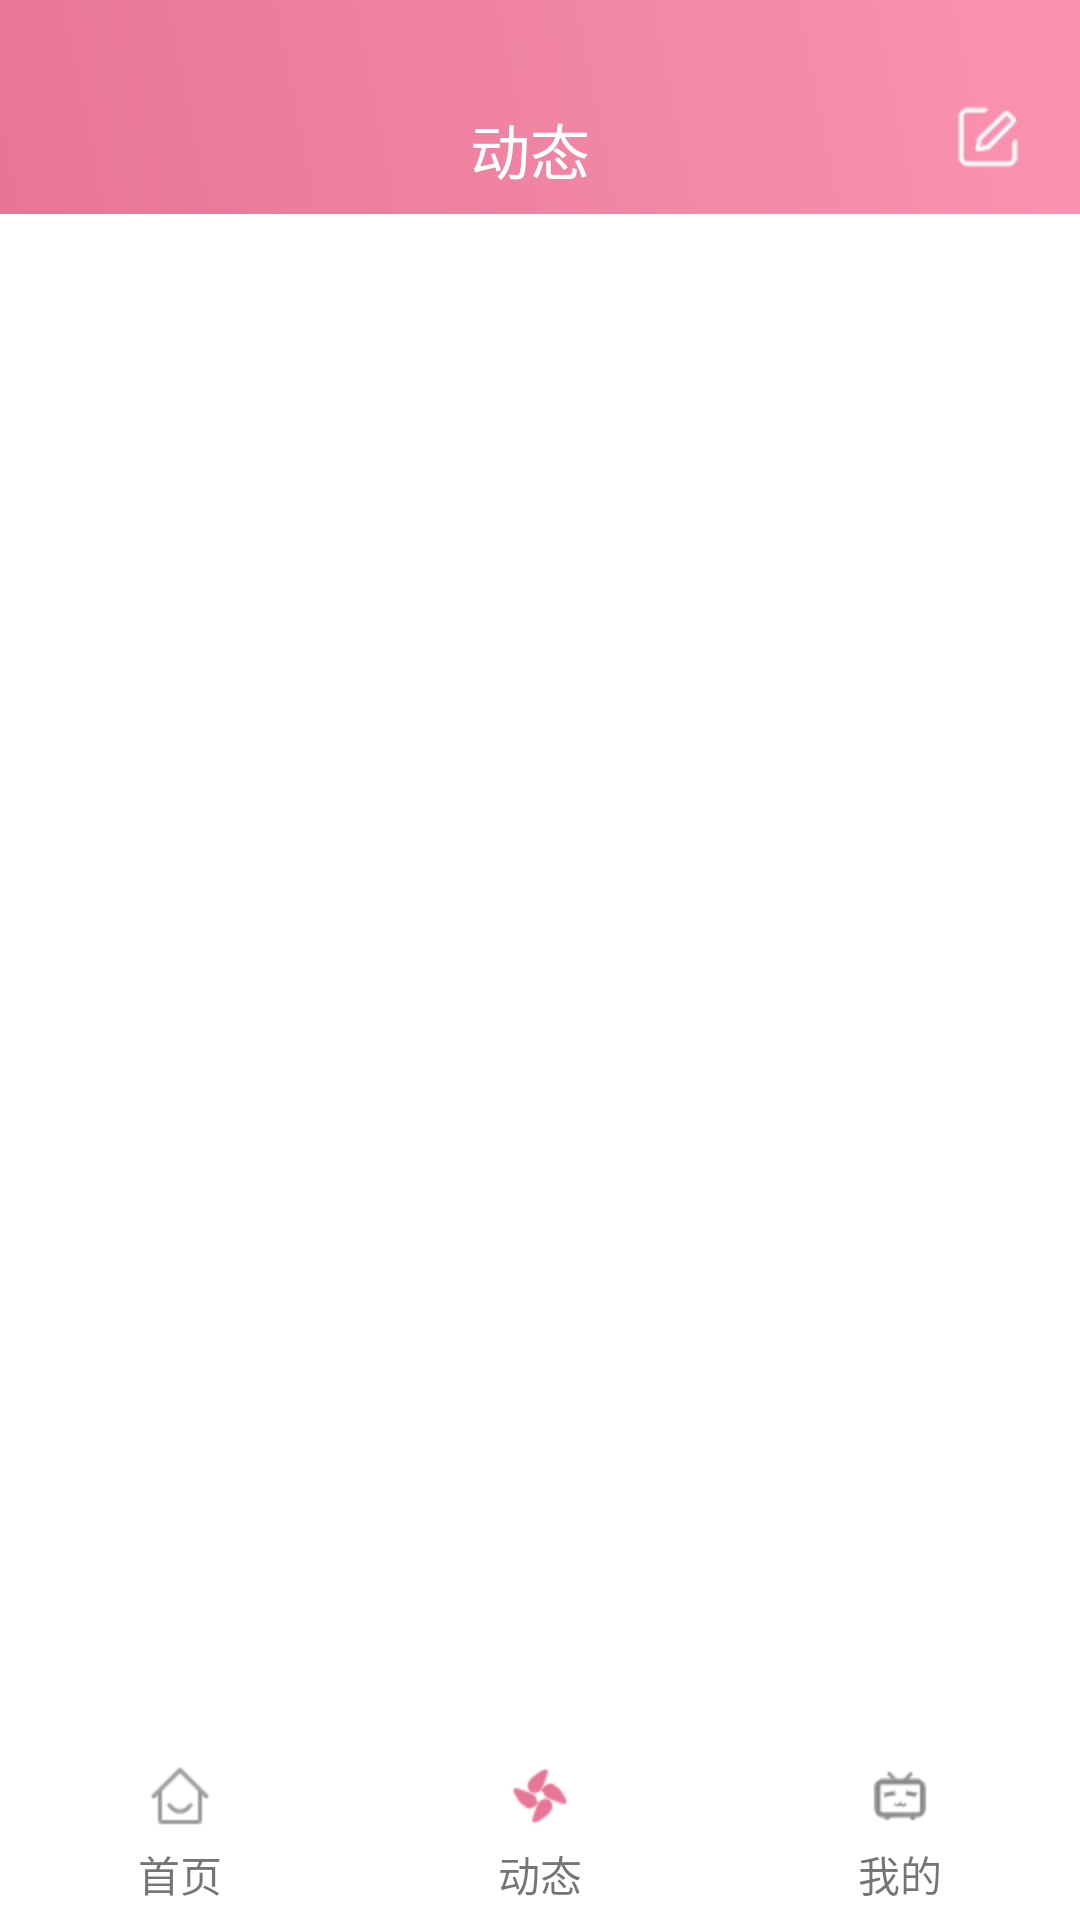

Where icons sit on this 1080*1920 app screen, as rect(x1, y1, x2, y2):
write: rect(958, 107, 1018, 167)
